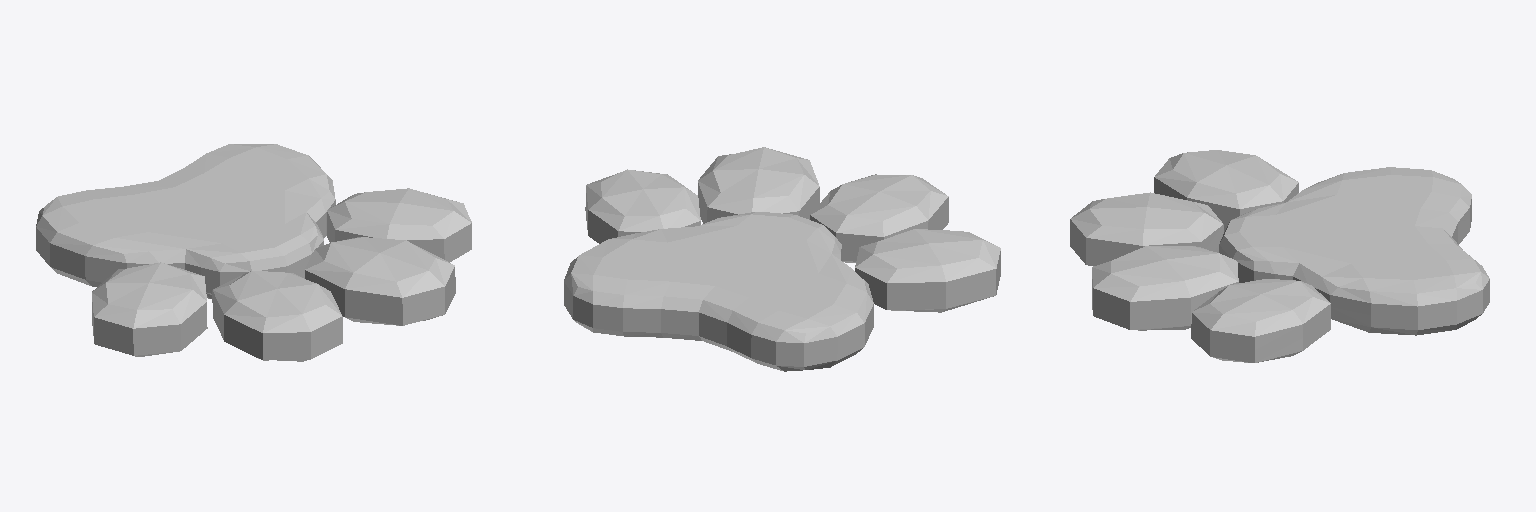
The model's file is uploads_files_2312323_Paw.obj.
The picture shows the model from 3 angles: view 1: azimuth 30°, elevation 25°; view 2: azimuth 150°, elevation 25°; view 3: azimuth 270°, elevation 25°; orthographic projection.
Visible parts, largest first — view 1: group7 group9; view 2: group7 group9; view 3: group7 group9.
Part boxes in pixels (left/top/right/bottom): group7 group9: left=36, top=144, right=471, bottom=361; group7 group9: left=564, top=147, right=1000, bottom=371; group7 group9: left=1070, top=150, right=1489, bottom=362.
Size of the model in its own units: 2.86 by 0.4035 by 2.67.